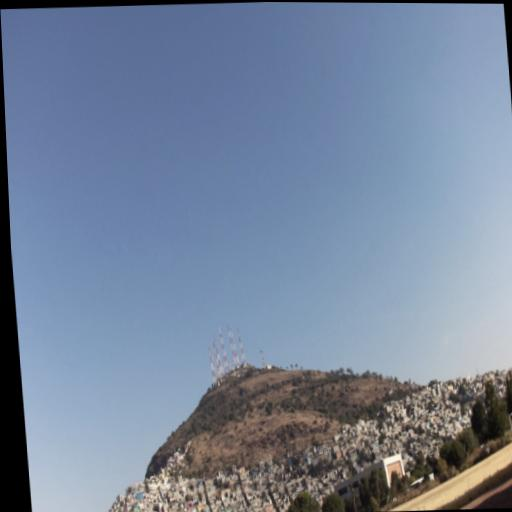drones: (236, 400, 238, 403)
